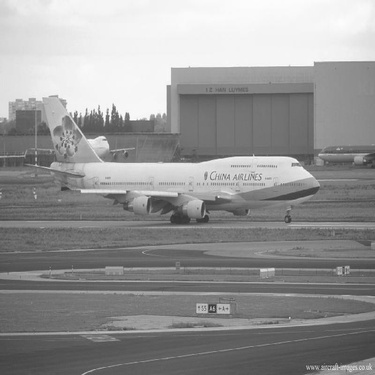airplane: (23, 83, 345, 243), (14, 117, 142, 186), (1, 129, 35, 179)
